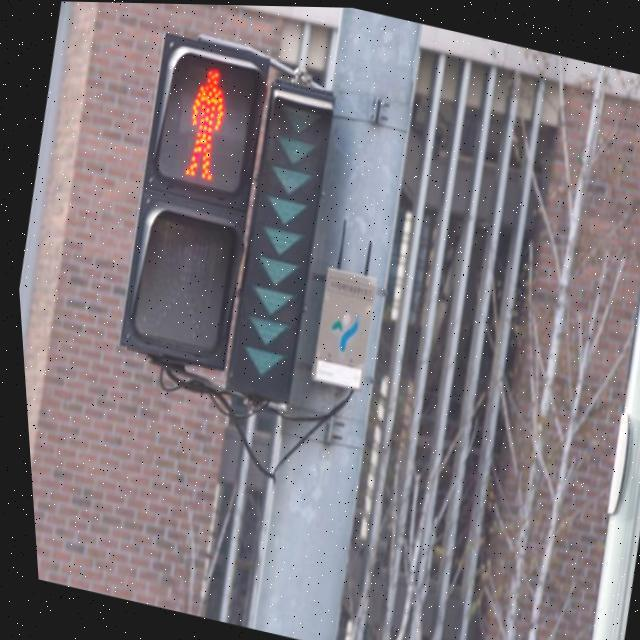red_light: (158, 53, 252, 190)
